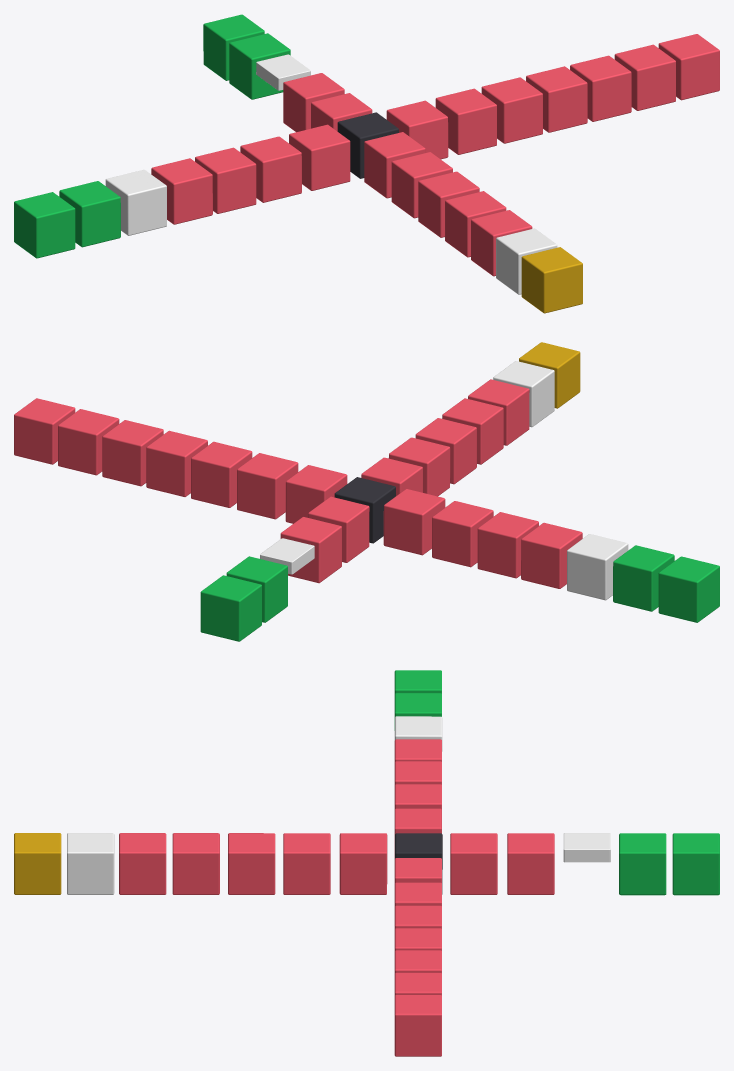
The model's file is jump_domi2.gltf.
The picture shows the model from 3 angles, top to bottom: view 1: azimuth 30°, elevation 25°; view 2: azimuth 150°, elevation 25°; view 3: azimuth 270°, elevation 25°; orthographic projection. The views are drawn at different scales.
Parts seen in each view (by area): view 1: Cube left (×6), Cube right (×6), Cube bottom (×6), Cube top (×4), Cube left center, Cube right center, Cube bottom center, Cube center, Cube top center; view 2: Cube left (×6), Cube right (×6), Cube bottom (×6), Cube top (×4), Cube left center, Cube right center, Cube top center, Cube center, Cube bottom center; view 3: Cube bottom (×6), Cube top (×4), Cube right (×6), Cube left (×6), Cube bottom center, Cube top center, Cube left center, Cube center, Cube right center.
Boxes of the visible parts, left/top/right/bottom form: Cube left (×6): left=14, top=136, right=301, bottom=258; Cube right (×6): left=435, top=34, right=719, bottom=154; Cube bottom (×6): left=391, top=152, right=582, bottom=313; Cube top (×4): left=203, top=14, right=344, bottom=132; Cube left center: left=289, top=124, right=350, bottom=190; Cube right center: left=386, top=100, right=448, bottom=159; Cube bottom center: left=364, top=132, right=425, bottom=198; Cube center: left=337, top=112, right=398, bottom=178; Cube top center: left=311, top=93, right=372, bottom=131; Cube left (×6): left=432, top=501, right=719, bottom=622; Cube right (×6): left=14, top=398, right=298, bottom=519; Cube bottom (×6): left=388, top=342, right=580, bottom=496; Cube top (×4): left=200, top=517, right=341, bottom=641; Cube left center: left=383, top=489, right=445, bottom=555; Cube right center: left=285, top=465, right=347, bottom=523; Cube top center: left=308, top=496, right=369, bottom=562; Cube center: left=334, top=477, right=395, bottom=543; Cube bottom center: left=361, top=457, right=422, bottom=495; Cube bottom (×6): left=14, top=833, right=330, bottom=894; Cube top (×4): left=507, top=833, right=719, bottom=895; Cube right (×6): left=394, top=882, right=441, bottom=1056; Cube left (×6): left=394, top=670, right=442, bottom=809; Cube bottom center: left=339, top=833, right=387, bottom=894; Cube top center: left=450, top=833, right=497, bottom=894; Cube left center: left=394, top=808, right=441, bottom=858; Cube center: left=395, top=833, right=442, bottom=894; Cube right center: left=394, top=858, right=441, bottom=883.
Bounding box in the file's own units: 20.73 × 1.23 × 17.89.
